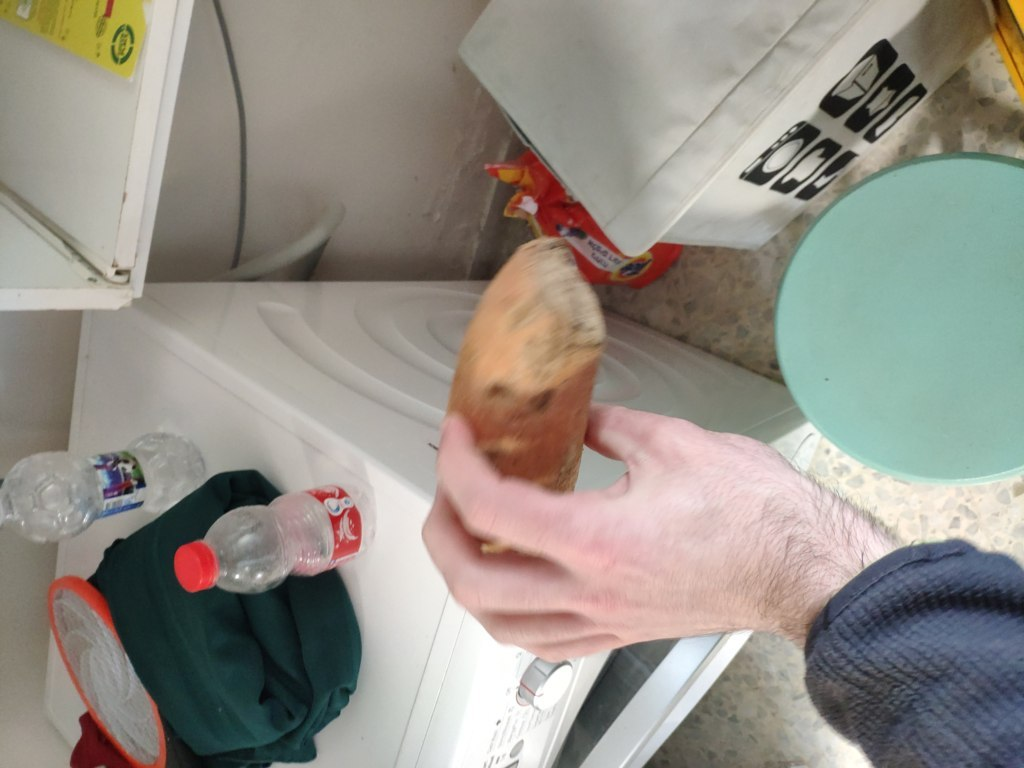Sweet Potato: (464, 299, 569, 525)
